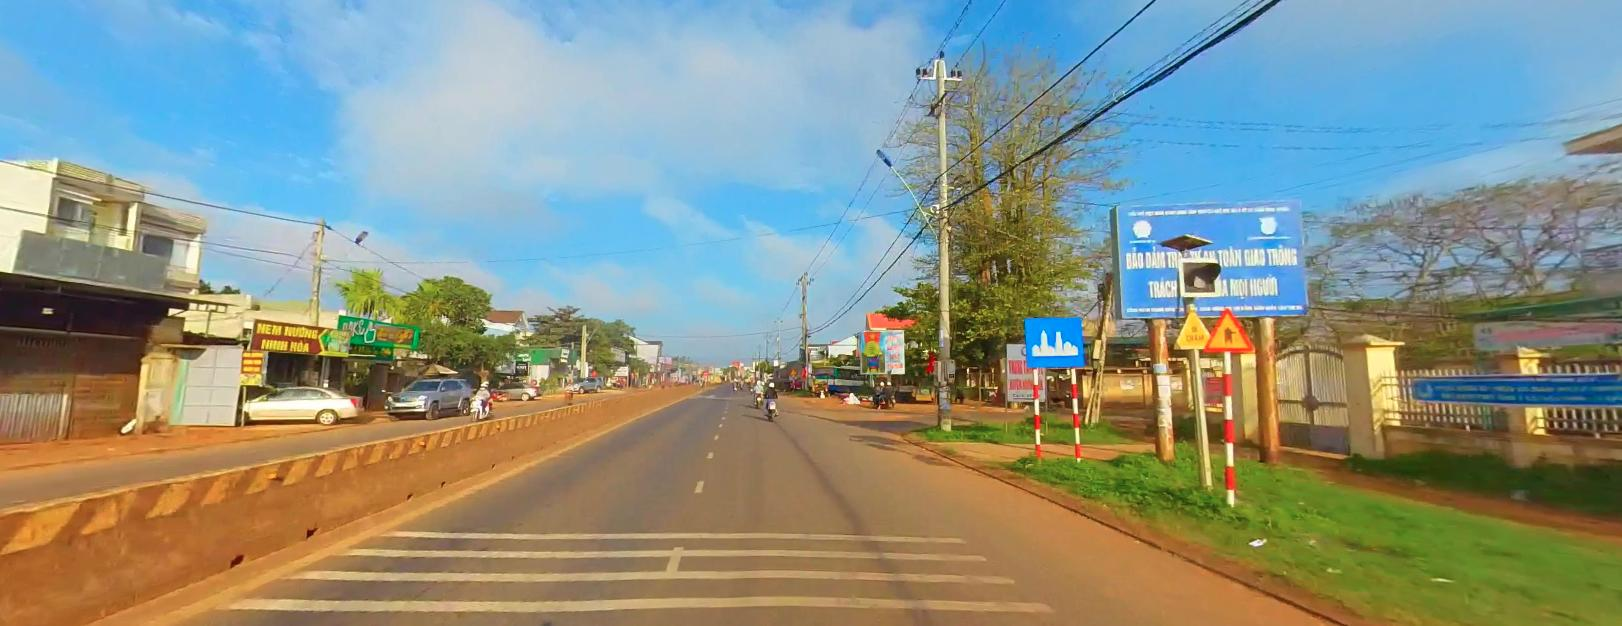Cam nguoc chieu: (702, 369, 708, 374)
Nguy hiem: (1202, 303, 1254, 351), (1171, 306, 1214, 350), (789, 366, 797, 372)
